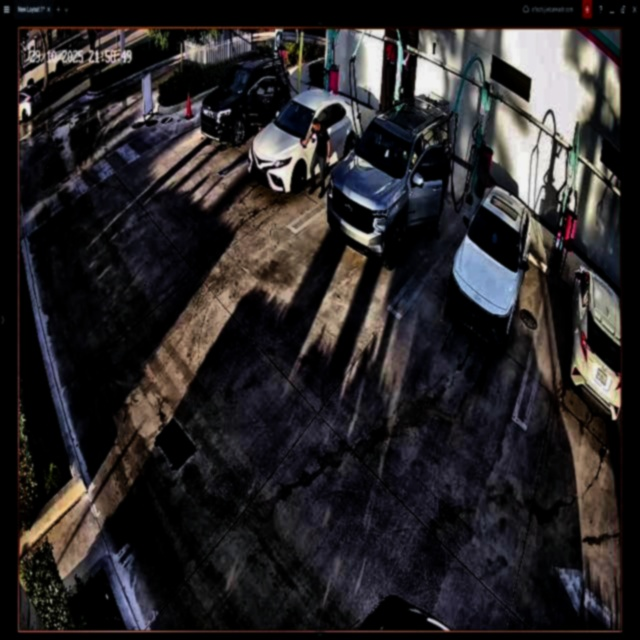Car: (325, 97, 450, 264), (449, 185, 529, 352), (251, 89, 360, 191), (200, 62, 285, 139)
